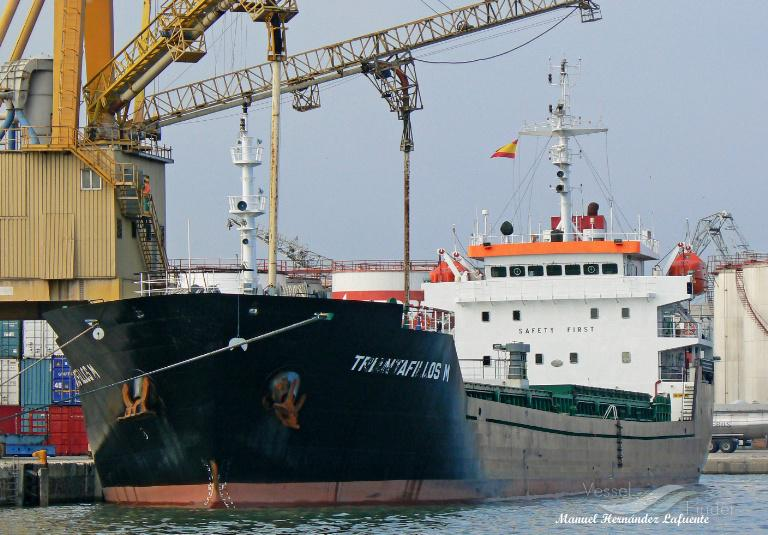OCR: (344, 345, 454, 392)
